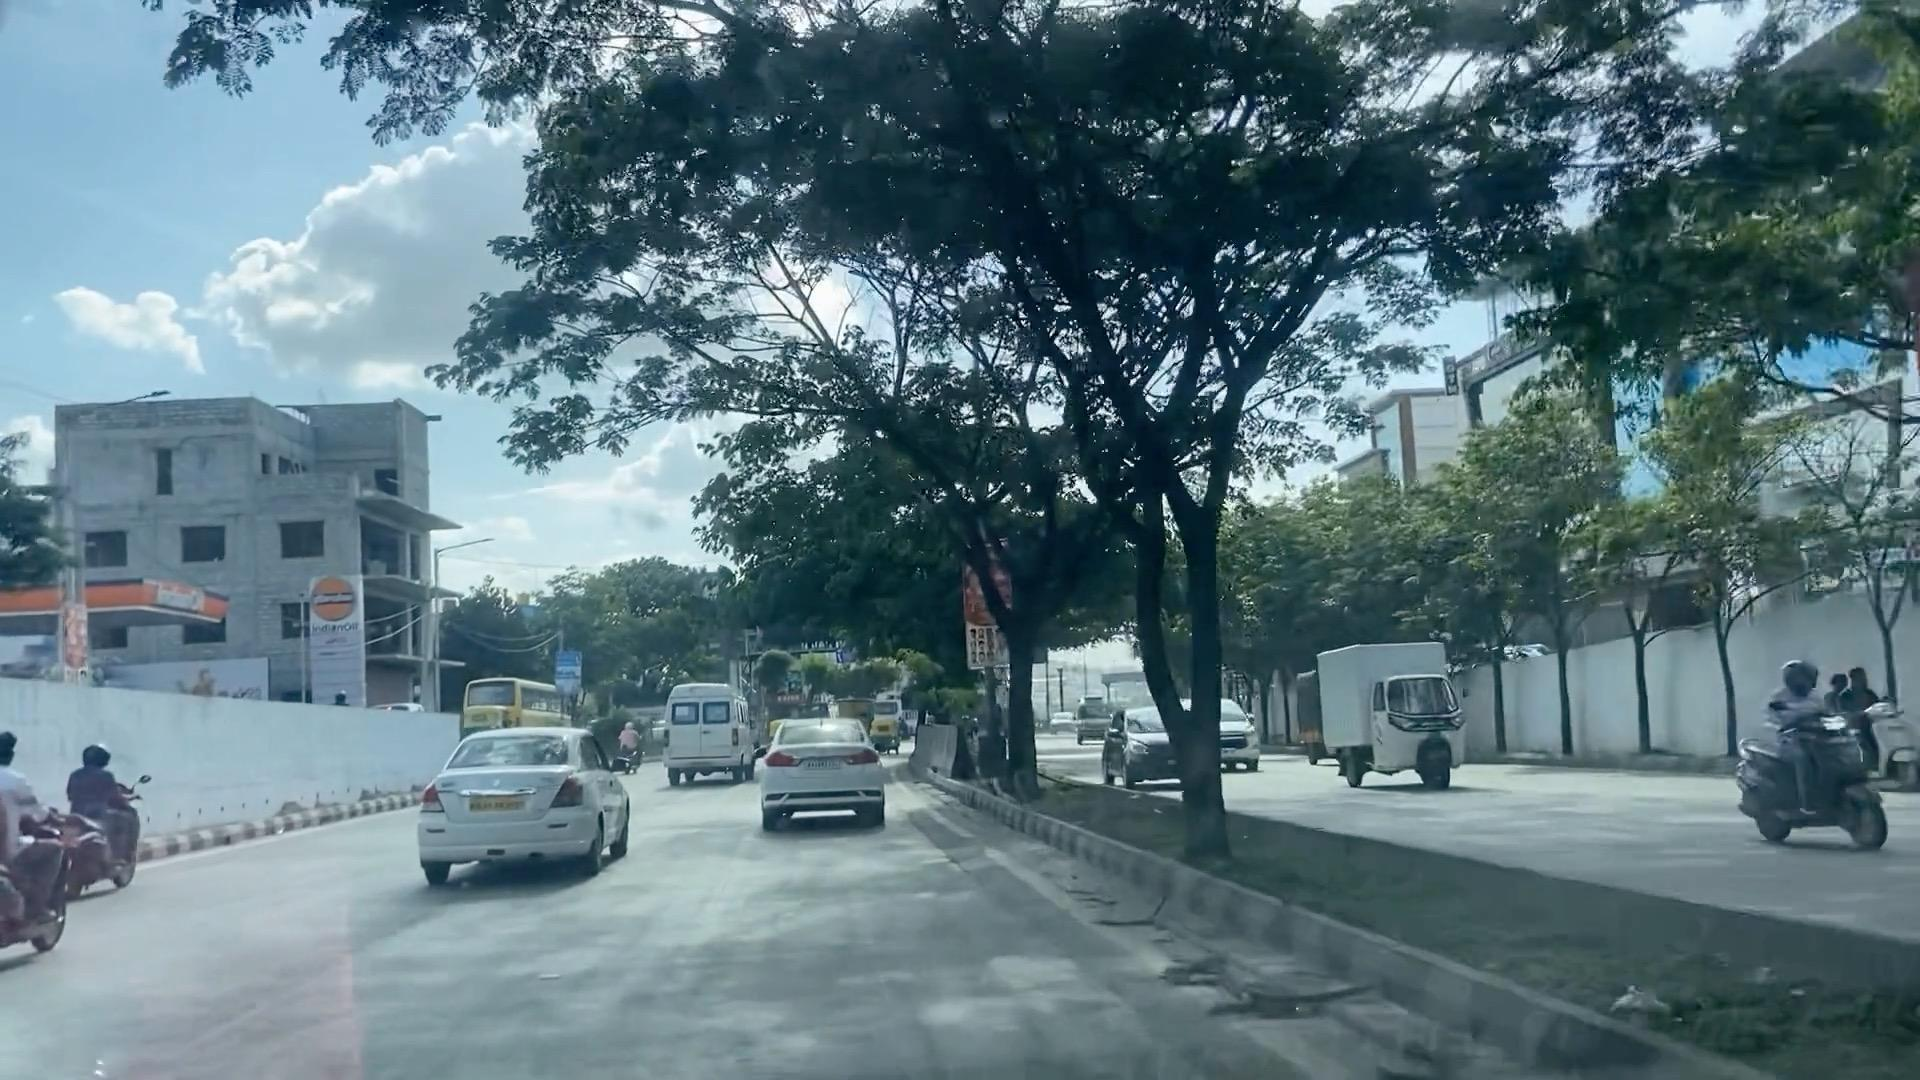HMV: (670, 678, 742, 782)
LMV: (425, 740, 611, 876), (65, 731, 148, 913), (762, 720, 890, 837)
RoadDamages: (1113, 915, 1356, 1068)
